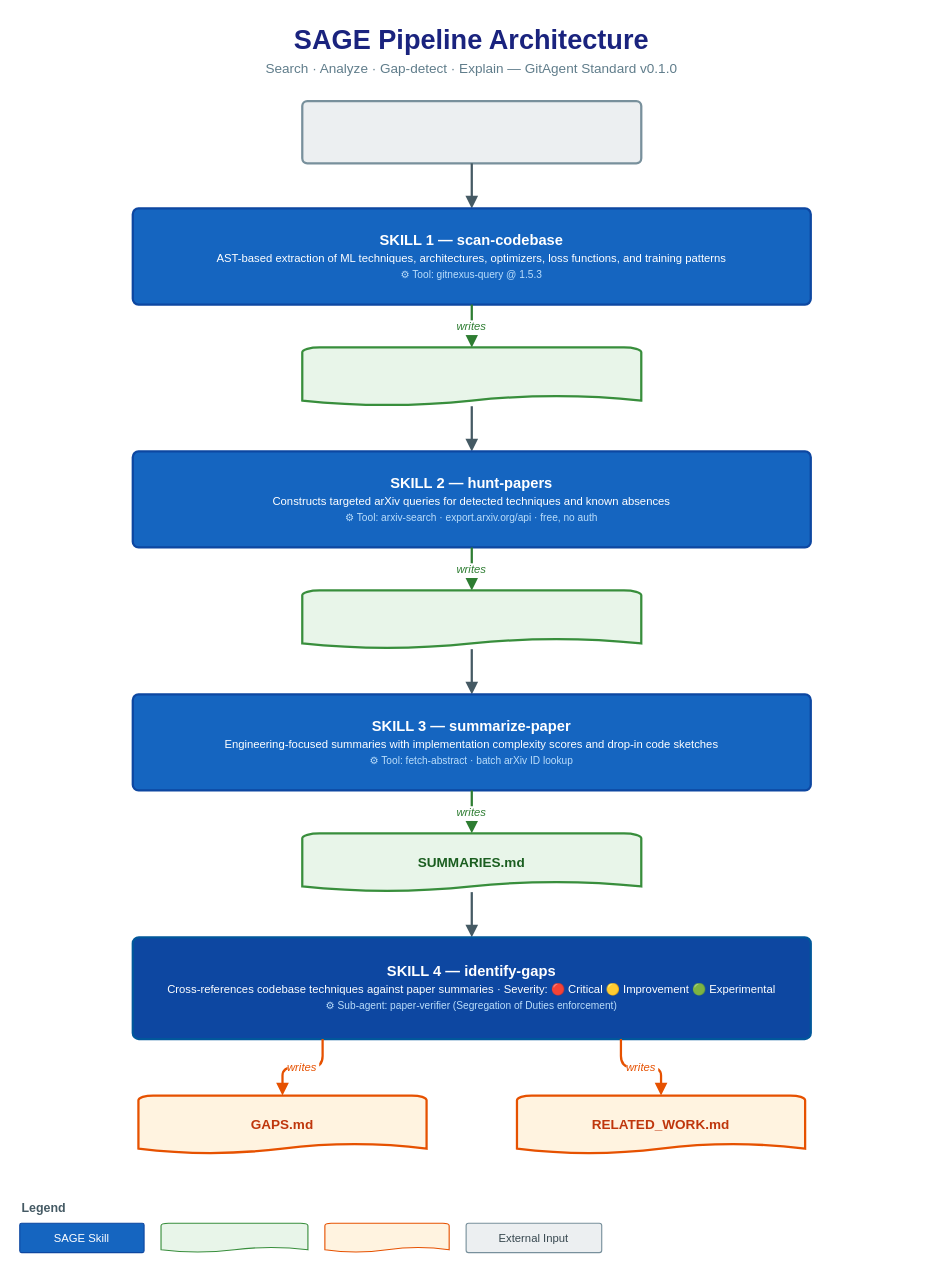
Some shapes in this 944 by 1272 pixel diagram are drawn without their labels. Each missing label, with the box of its shape:
Final Output: (324, 1222, 449, 1253)
Intermediate File: (160, 1222, 308, 1253)
PAPERS.md: (301, 589, 642, 650)
Source Repository *.py · *.ts · *.rs · *.ipynb · any ML codebase: (301, 99, 642, 164)
TECHNIQUES.md: (301, 346, 642, 407)
